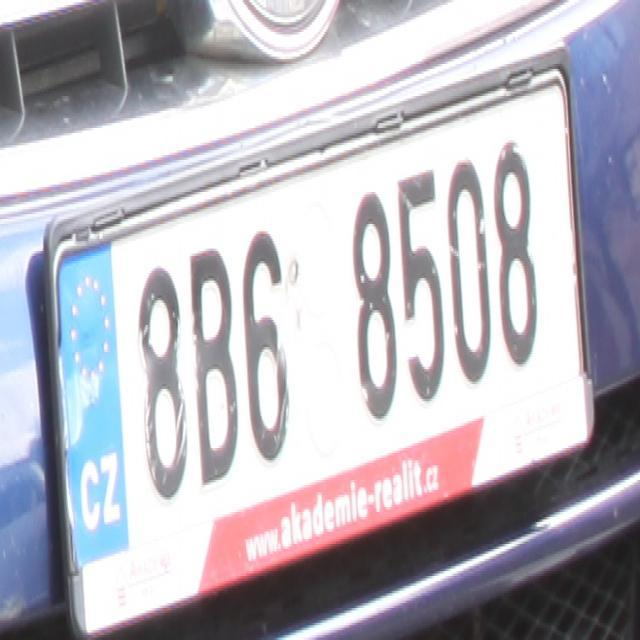0: (446, 158, 494, 384)
5: (398, 168, 446, 402)
6: (240, 226, 290, 463)
8: (138, 264, 184, 502), (352, 192, 397, 421), (496, 140, 537, 364)
B: (188, 239, 238, 495)
